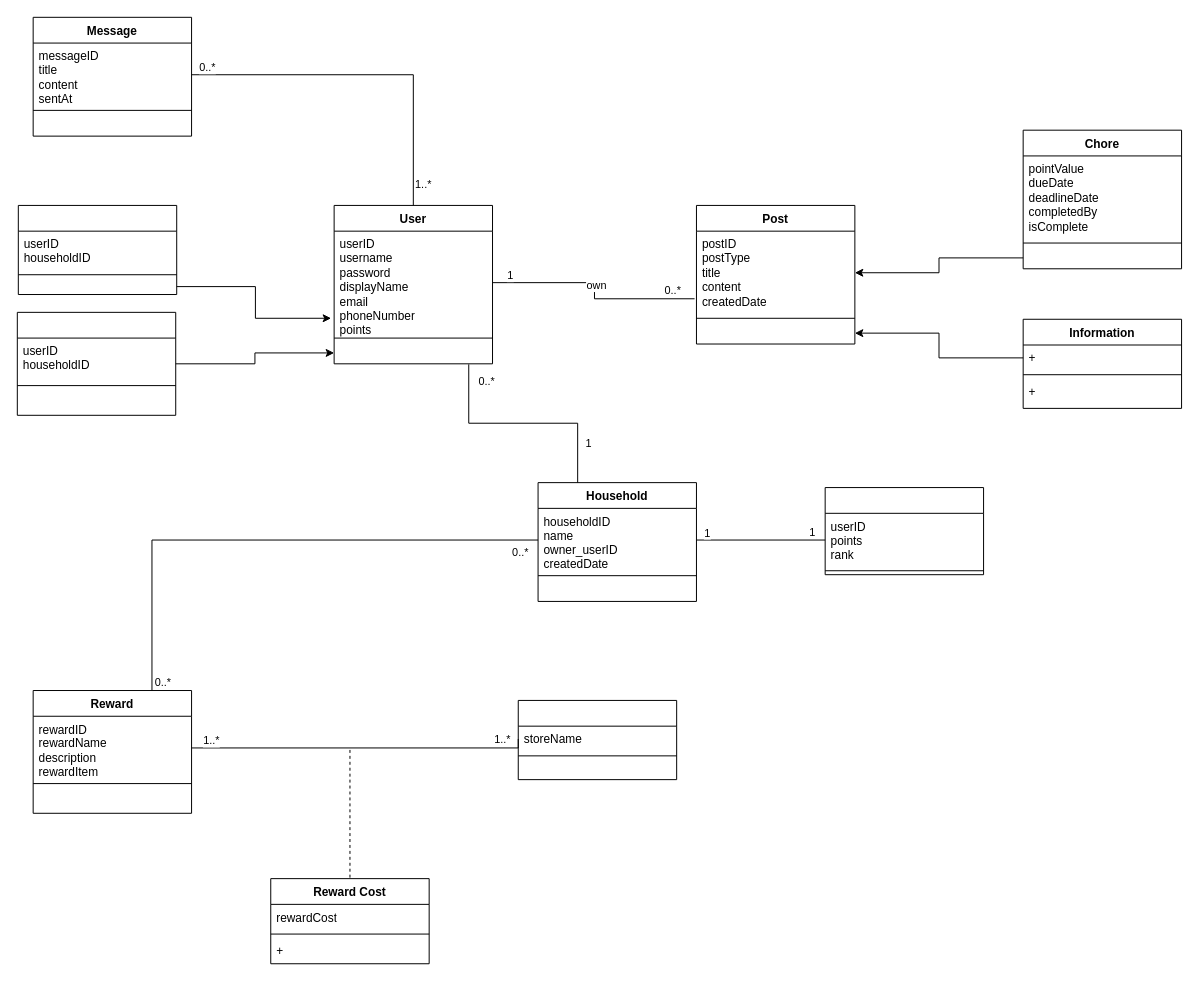
This 1199x984 diagram has some shape labels left out. Here are the shapes that lost their labels. From the top down, the box of each, then its label:
(17, 204, 177, 295): Administrator
(16, 311, 176, 415): Member
(824, 487, 984, 575): Leaderboard
(517, 699, 677, 780): Reward Store
